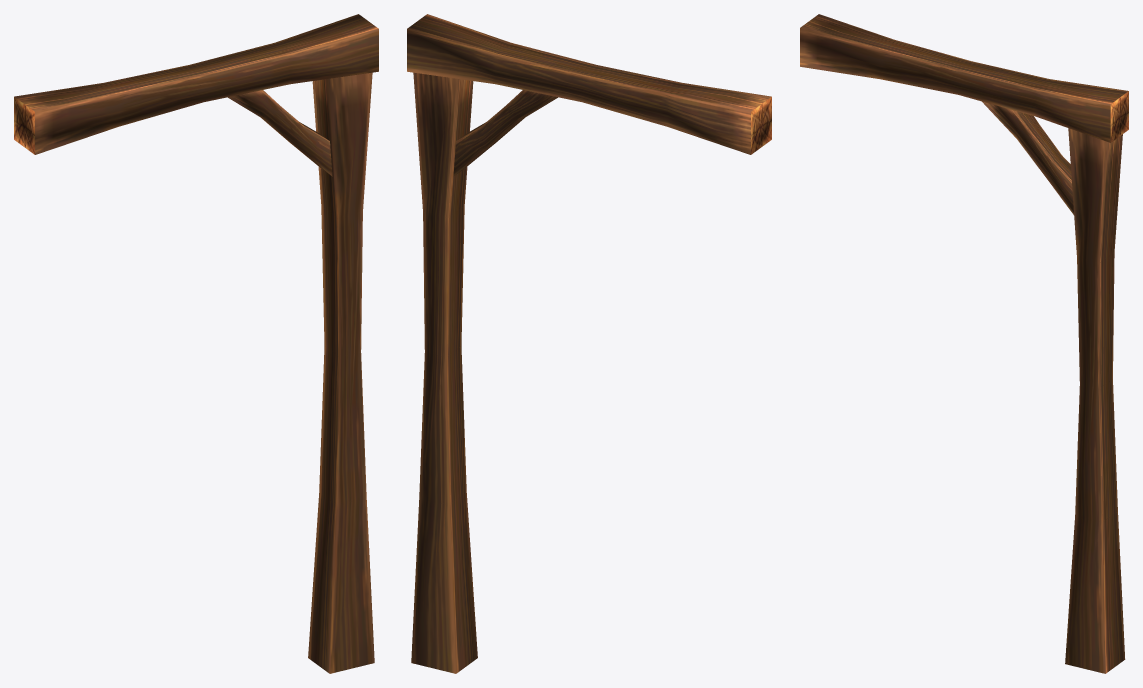
Rendered from INST_HTOWN_ROPESUPPORT.fbx.
3 renders of one model, left to right at view 1: azimuth 30°, elevation 25°; view 2: azimuth 150°, elevation 25°; view 3: azimuth 330°, elevation 25°, orthographic. The views are drawn at different scales.
Parts seen in each view (by area): view 1: INST_HTOWN_ROPESUPPORT; view 2: INST_HTOWN_ROPESUPPORT; view 3: INST_HTOWN_ROPESUPPORT.
Part boxes in pixels (<box>): INST_HTOWN_ROPESUPPORT: <box>14,14,378,673</box>; INST_HTOWN_ROPESUPPORT: <box>407,14,771,673</box>; INST_HTOWN_ROPESUPPORT: <box>800,14,1128,673</box>.
Bounding box in the file's own units: 25923 × 45609 × 2844.
Materials: 1 (1 with a texture image).
